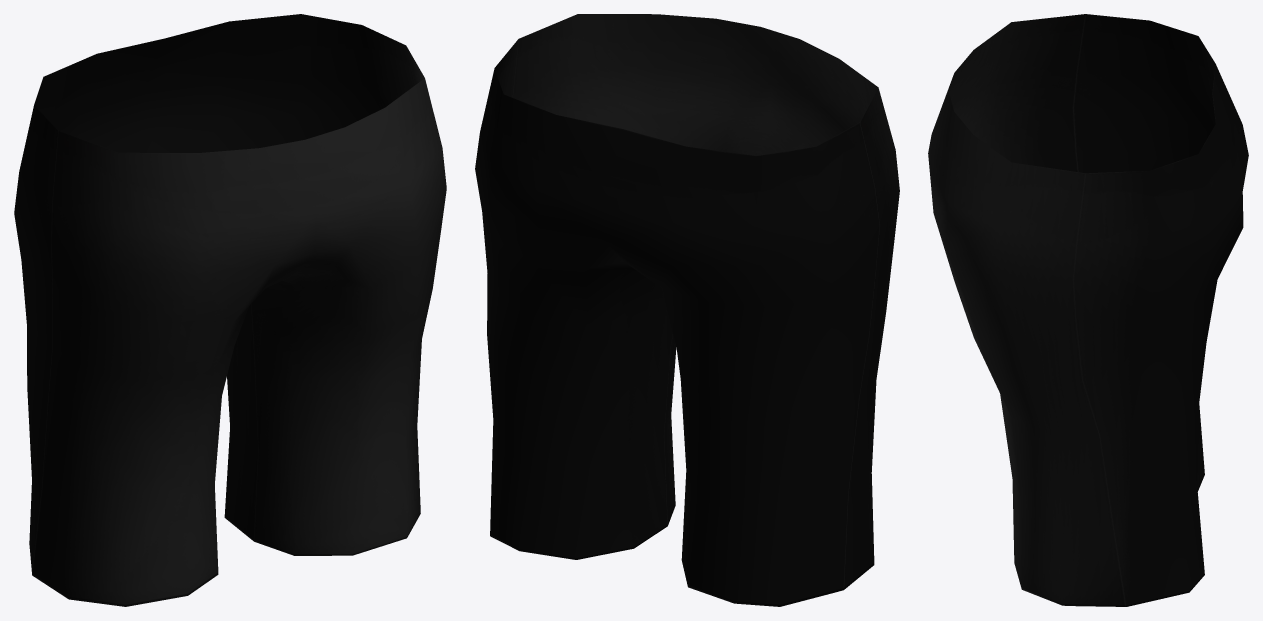
The model's file is AF_M_Trousers_12.fbx.
The picture shows the model from 3 angles, left to right: view 1: azimuth 30°, elevation 25°; view 2: azimuth 150°, elevation 25°; view 3: azimuth 270°, elevation 25°; orthographic projection. The views are drawn at different scales.
Parts seen in each view (by area): view 1: AF_M_Trousers_12; view 2: AF_M_Trousers_12; view 3: AF_M_Trousers_12.
Boxes of the visible parts, x1,y1,x2,y2 form: AF_M_Trousers_12: [14, 14, 446, 606]; AF_M_Trousers_12: [475, 14, 899, 606]; AF_M_Trousers_12: [928, 14, 1248, 606].
Size of the model in its own units: 343 by 406 by 270.
